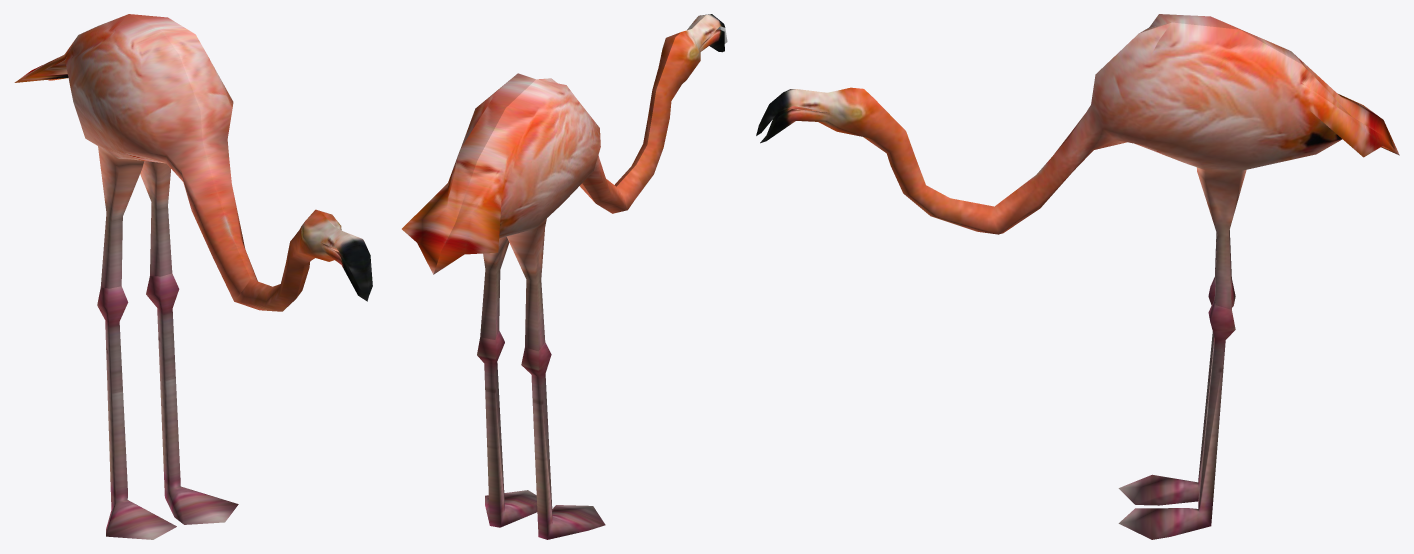
Rendered from greater-flamingo.glb.
The picture shows the model from 3 angles, left to right: view 1: azimuth 30°, elevation 25°; view 2: azimuth 150°, elevation 25°; view 3: azimuth 270°, elevation 25°; orthographic projection. The views are drawn at different scales.
Visible parts, largest first — view 1: Material2; view 2: Material2; view 3: Material2.
Part boxes in pixels (x1,y1,x2,y2): Material2: (14, 14, 372, 539); Material2: (402, 14, 725, 539); Material2: (756, 14, 1399, 539).
Size of the model in its own units: 11.51 by 40.14 by 48.
2 materials, 2 textured.
